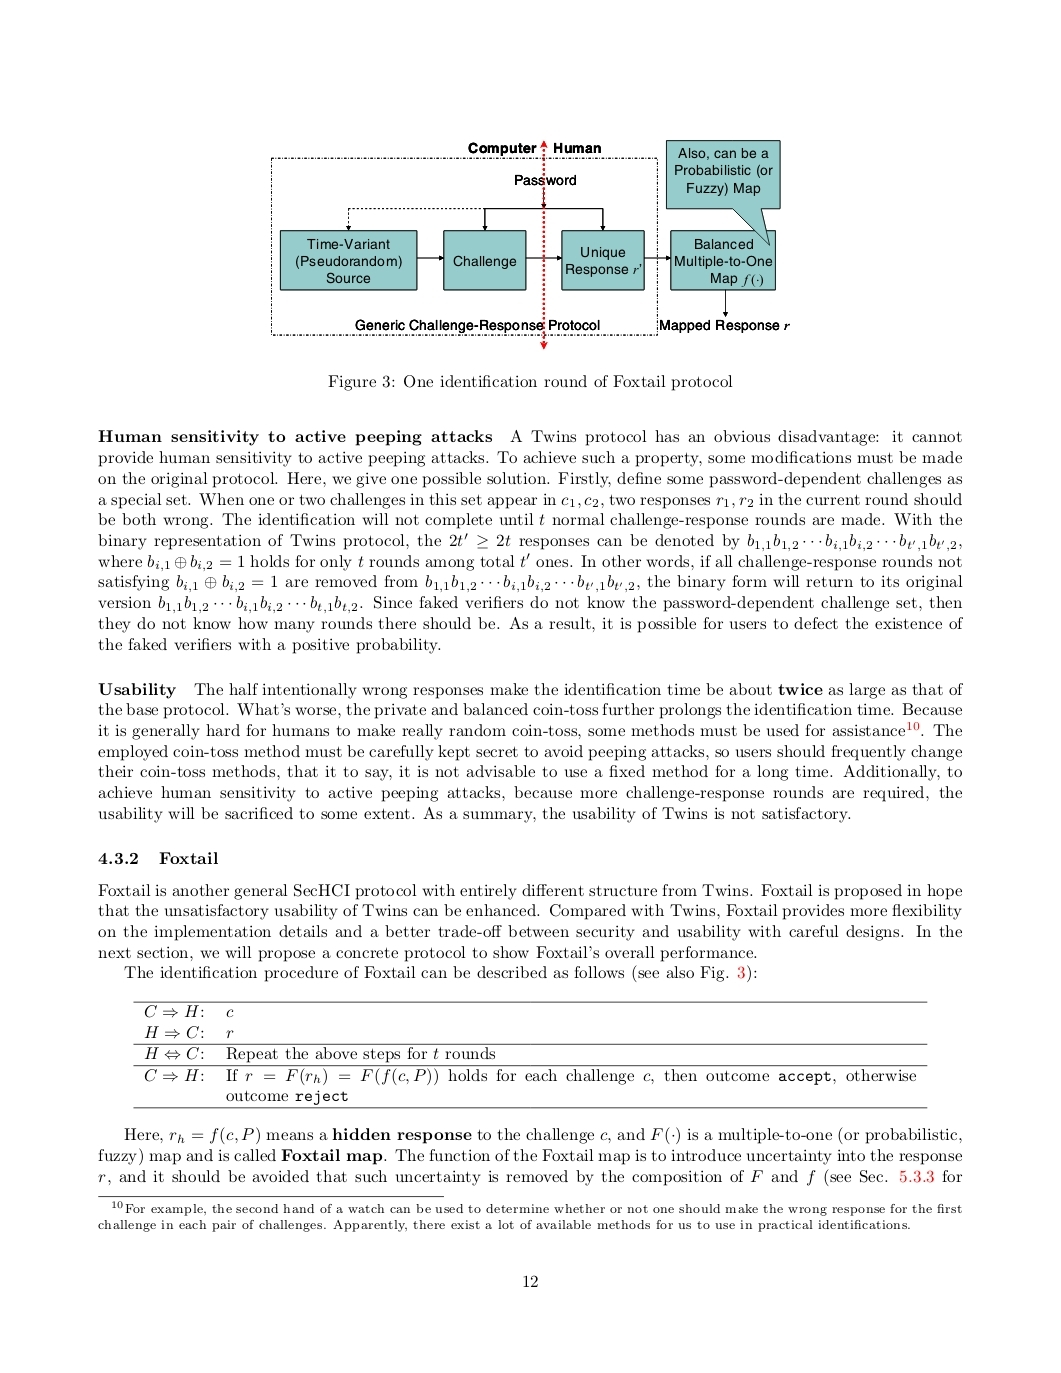Table: (133, 1001, 927, 1108)
figure: (271, 139, 789, 350)
